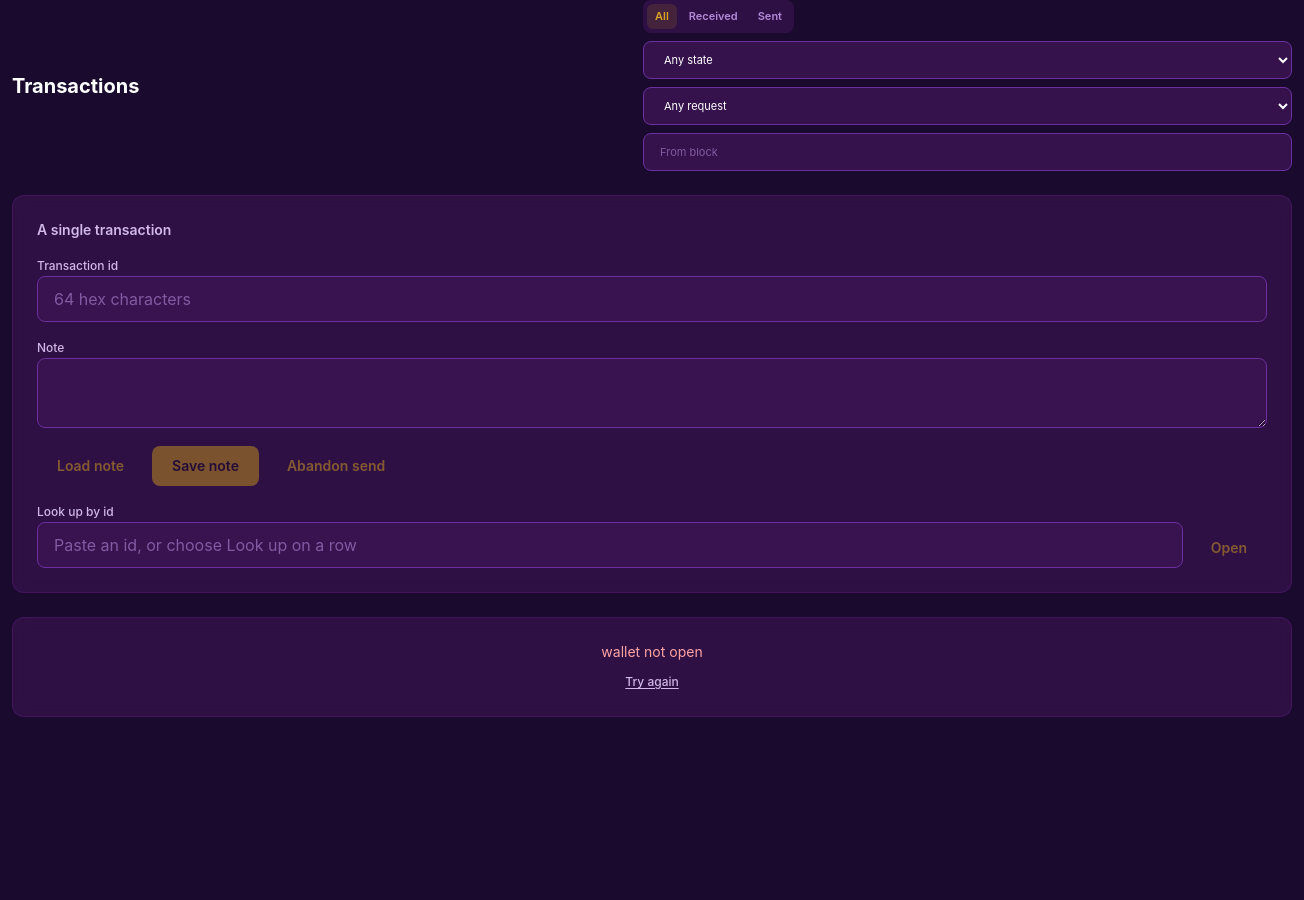
Test: Transactions › surfaces a load failure with retry instead of an empty list
Expected: the text "wallet not open" is shown, left=601, top=643, right=703, bottom=660
Expected: the text "No transactions yet" is not shown
Click the button "Try again". click: coordinates (652, 682)
box: left=625, top=674, right=679, bottom=690
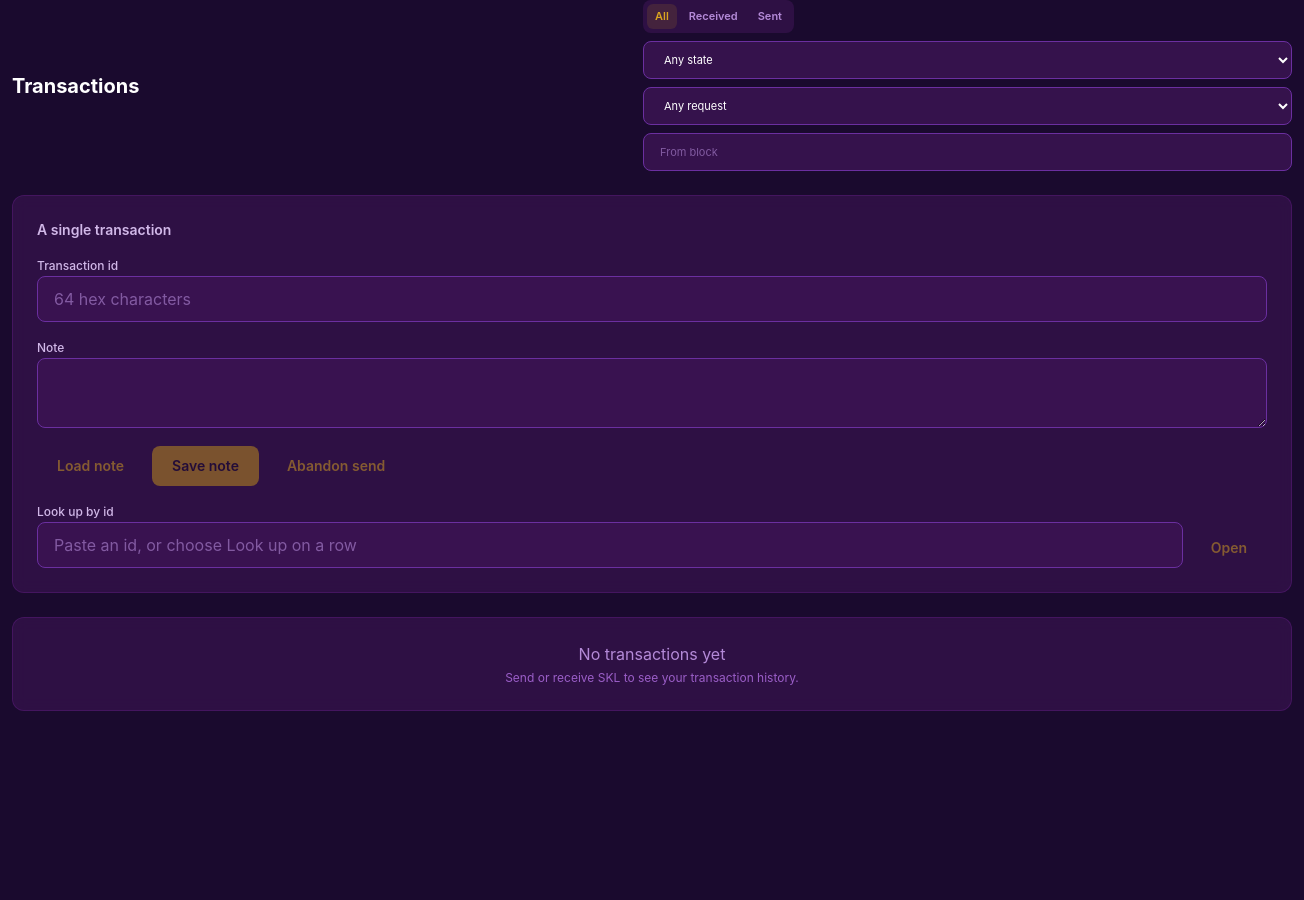
Expected: the text "No transactions yet" is shown, left=579, top=644, right=725, bottom=664
Expected: the text "wallet not open" is gone
